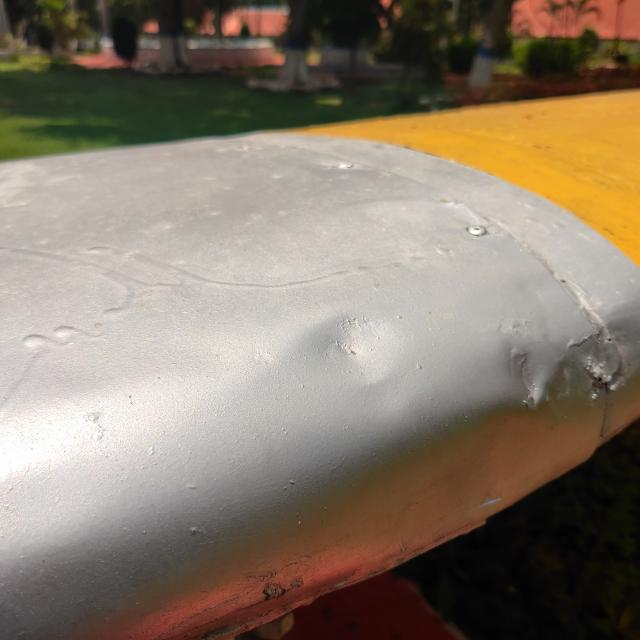dent: (284, 284, 420, 416), (482, 322, 583, 429)
